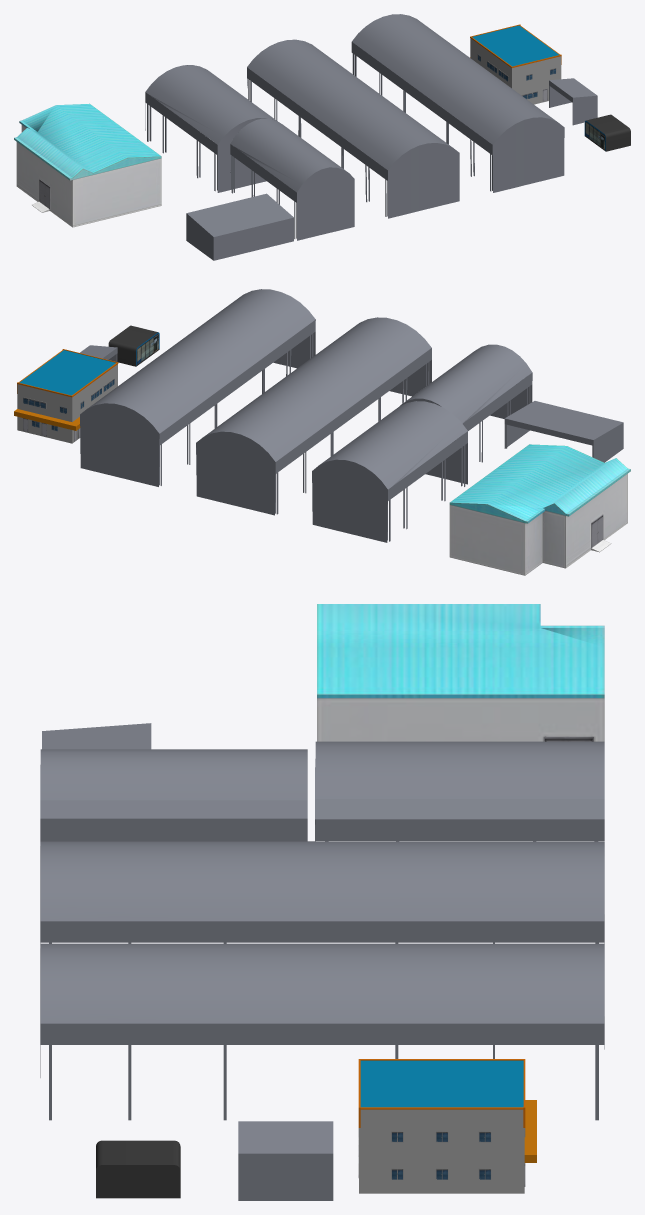
The model's file is soubrain_T8.glb.
The picture shows the model from 3 angles, top to bottom: view 1: azimuth 30°, elevation 25°; view 2: azimuth 150°, elevation 25°; view 3: azimuth 270°, elevation 25°; orthographic projection. The views are drawn at different scales.
Visible parts, largest first — view 1: Box1674, Box1739, Box032, Box007, T8-3, Box1740, Box009, Box1694, box080; view 2: Box1739, Box1674, Box032, T8-3, Box007, Box009, Box1740, box080, Box1694; view 3: Box1674, Box1739, Box032, T8-3, Box007, Box009, Box1694, box080, Box1740, Box1738.
Part boxes in pixels (bbox=[...]): Box1674: bbox=[351, 14, 564, 192]; Box1739: bbox=[247, 39, 459, 218]; Box032: bbox=[14, 103, 161, 227]; Box007: bbox=[230, 118, 354, 240]; T8-3: bbox=[145, 65, 276, 192]; Box1740: bbox=[186, 193, 293, 260]; Box009: bbox=[470, 24, 561, 104]; Box1694: bbox=[549, 78, 597, 125]; box080: bbox=[584, 114, 630, 151]; Box1739: bbox=[196, 317, 431, 515]; Box1674: bbox=[80, 289, 315, 486]; Box032: bbox=[449, 444, 630, 575]; T8-3: bbox=[312, 401, 467, 542]; Box007: bbox=[399, 344, 532, 462]; Box009: bbox=[14, 349, 118, 443]; Box1740: bbox=[504, 401, 623, 462]; box080: bbox=[108, 325, 159, 366]; Box1694: bbox=[80, 345, 117, 361]; Box1674: bbox=[40, 943, 604, 1120]; Box1739: bbox=[40, 841, 604, 943]; Box032: bbox=[317, 604, 604, 741]; T8-3: bbox=[315, 741, 604, 841]; Box007: bbox=[40, 749, 307, 841]; Box009: bbox=[358, 1059, 536, 1193]; Box1694: bbox=[238, 1121, 333, 1200]; box080: bbox=[96, 1140, 180, 1198]; Box1740: bbox=[42, 723, 151, 749]; Box1738: bbox=[391, 1131, 491, 1179].
Size of the model in its own units: 93.32 by 11.43 by 44.45.
Materials: 12 (6 with a texture image).
